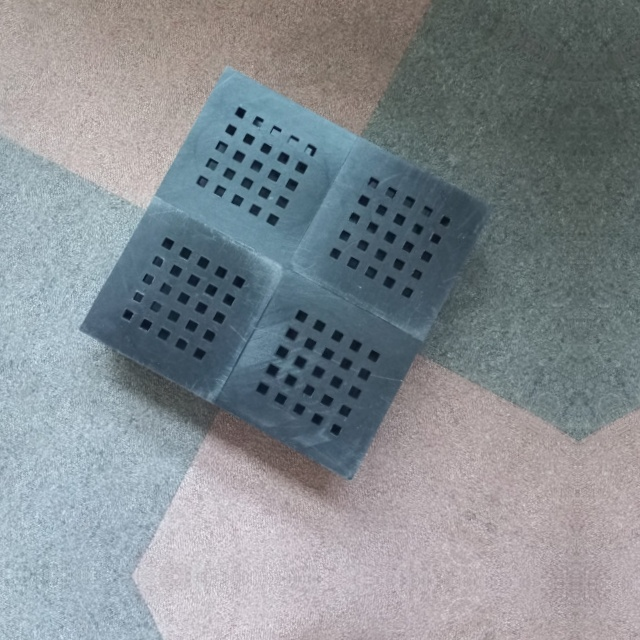pallet: (73, 59, 491, 489)
